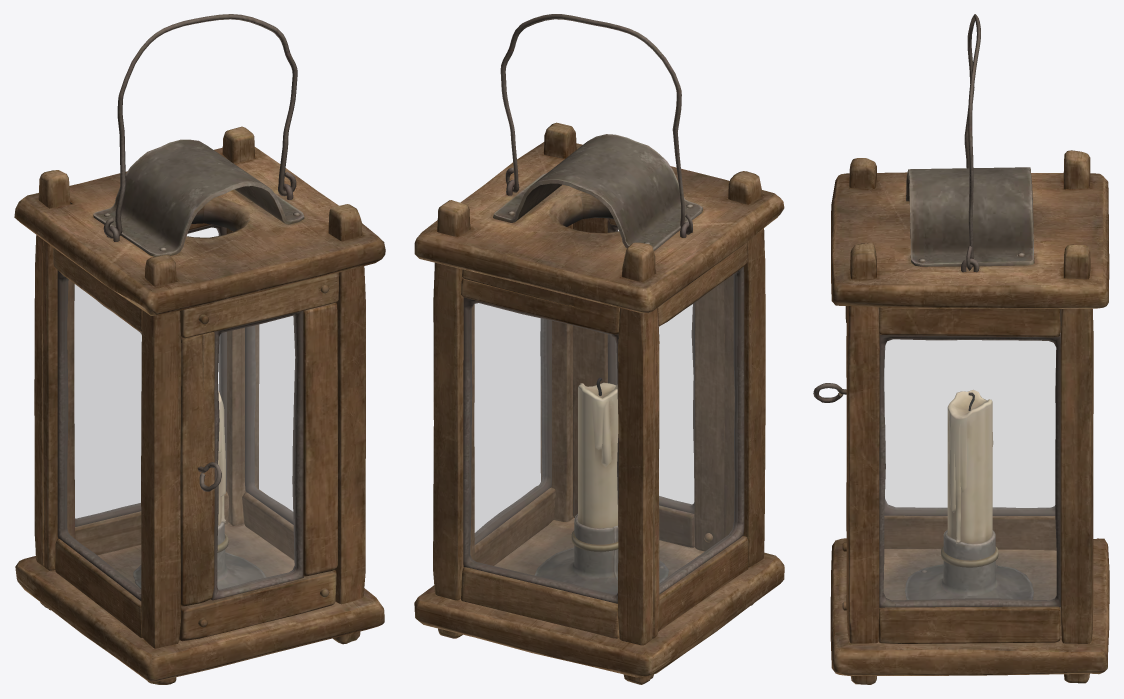
File: ph-lantern.glb
3 views of the same model, side by side, from view 1: azimuth 30°, elevation 25°; view 2: azimuth 150°, elevation 25°; view 3: azimuth 270°, elevation 25° (orthographic).
Parts seen in each view (by area): view 1: wooden_lantern_01; view 2: wooden_lantern_01; view 3: wooden_lantern_01.
Part boxes in pixels (x1,y1,x2,y2): wooden_lantern_01: (14, 14, 385, 684); wooden_lantern_01: (414, 14, 784, 684); wooden_lantern_01: (813, 14, 1109, 684).
Size of the model in its own units: 0.221 by 0.5301 by 0.2347.
2 materials, 1 textured.
